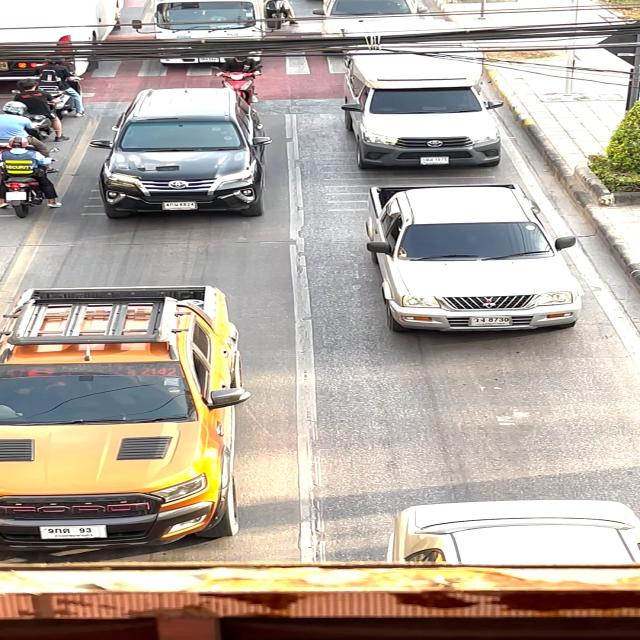car: (2, 280, 264, 562), (352, 175, 593, 339), (316, 47, 522, 175), (89, 86, 282, 220), (385, 494, 640, 571), (127, 0, 270, 72), (315, 0, 437, 50)
